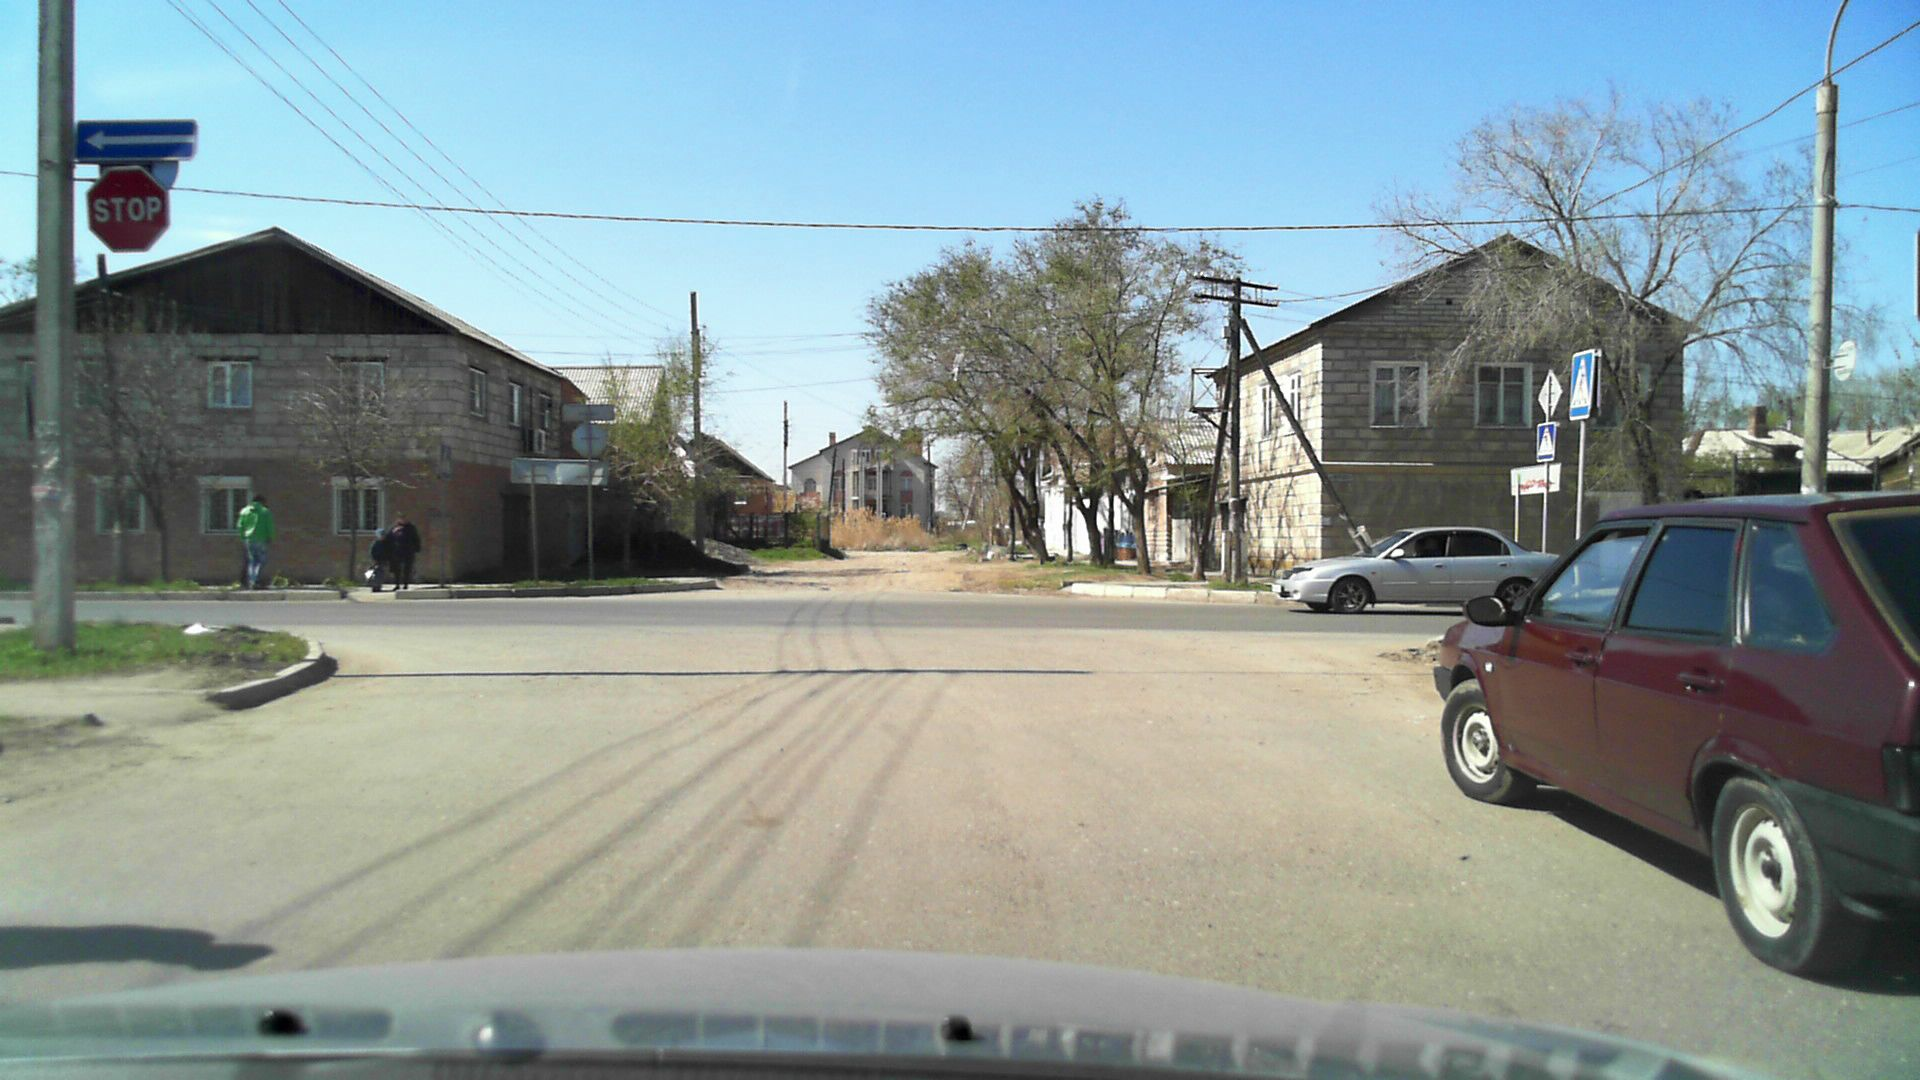One-Way Traffic: (76, 119, 196, 161)
